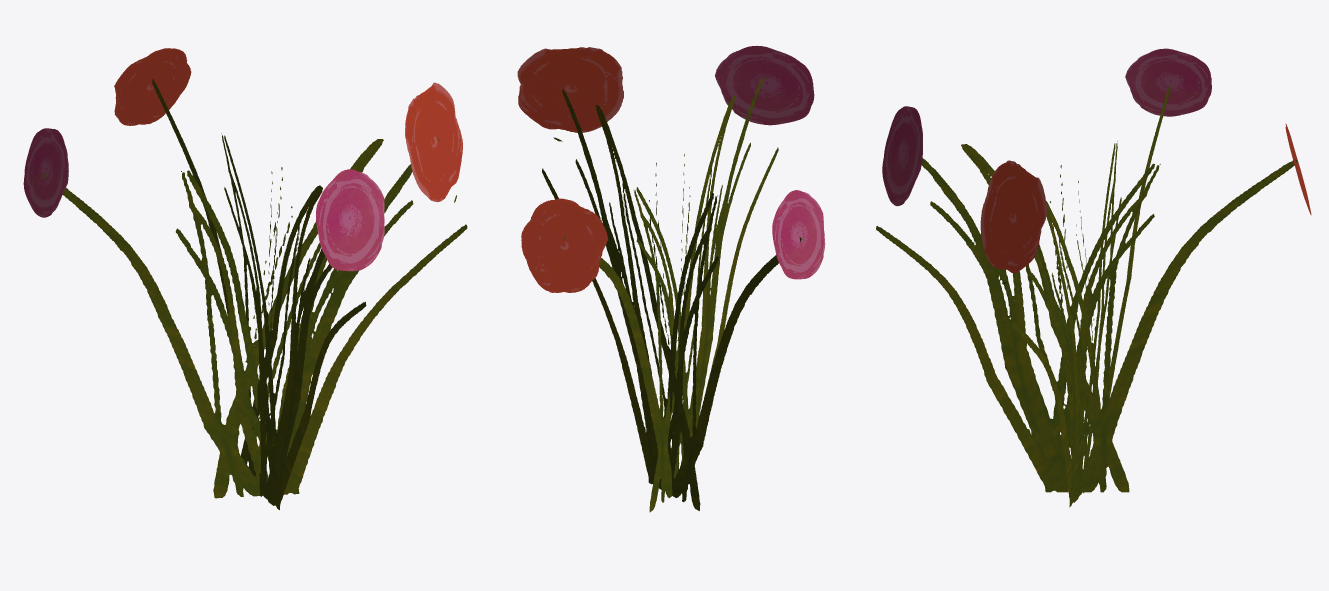
Rendered from SM_flowers_01.glb.
3 renders of one model, left to right at view 1: azimuth 30°, elevation 25°; view 2: azimuth 150°, elevation 25°; view 3: azimuth 270°, elevation 25°, orthographic.
Visible parts, largest first — view 1: SM_flowers_01; view 2: SM_flowers_01; view 3: SM_flowers_01.
Boxes of the visible parts, <box> form: SM_flowers_01: <box>23,48,467,509</box>; SM_flowers_01: <box>517,45,825,512</box>; SM_flowers_01: <box>876,48,1311,507</box>.
Bounding box in the file's own units: 0.2478 × 0.2542 × 0.26.
1 material, 1 textured.
